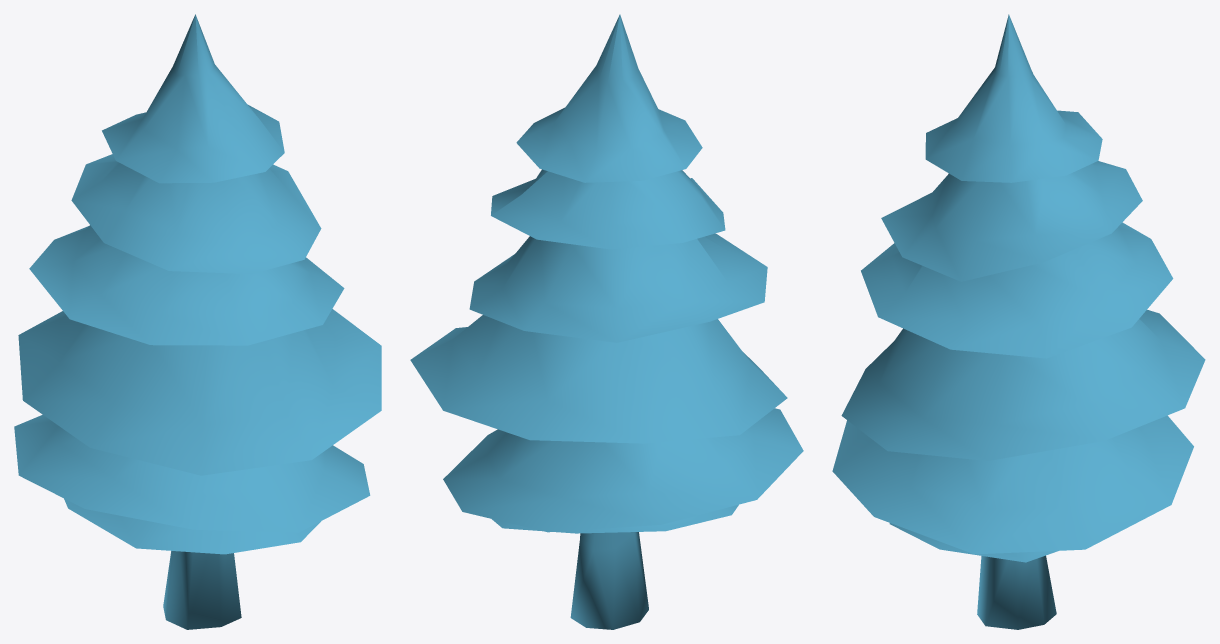
File: obj_treeEvergreen.fbx
3 renders of one model, left to right at view 1: azimuth 30°, elevation 25°; view 2: azimuth 150°, elevation 25°; view 3: azimuth 270°, elevation 25°, orthographic.
Visible parts, largest first — view 1: obj_treeEvergreen; view 2: obj_treeEvergreen; view 3: obj_treeEvergreen.
Part boxes in pixels (<box>): obj_treeEvergreen: <box>14,14,381,629</box>; obj_treeEvergreen: <box>410,14,803,629</box>; obj_treeEvergreen: <box>832,14,1205,629</box>.
Size of the model in its own units: 119 by 210 by 117.
